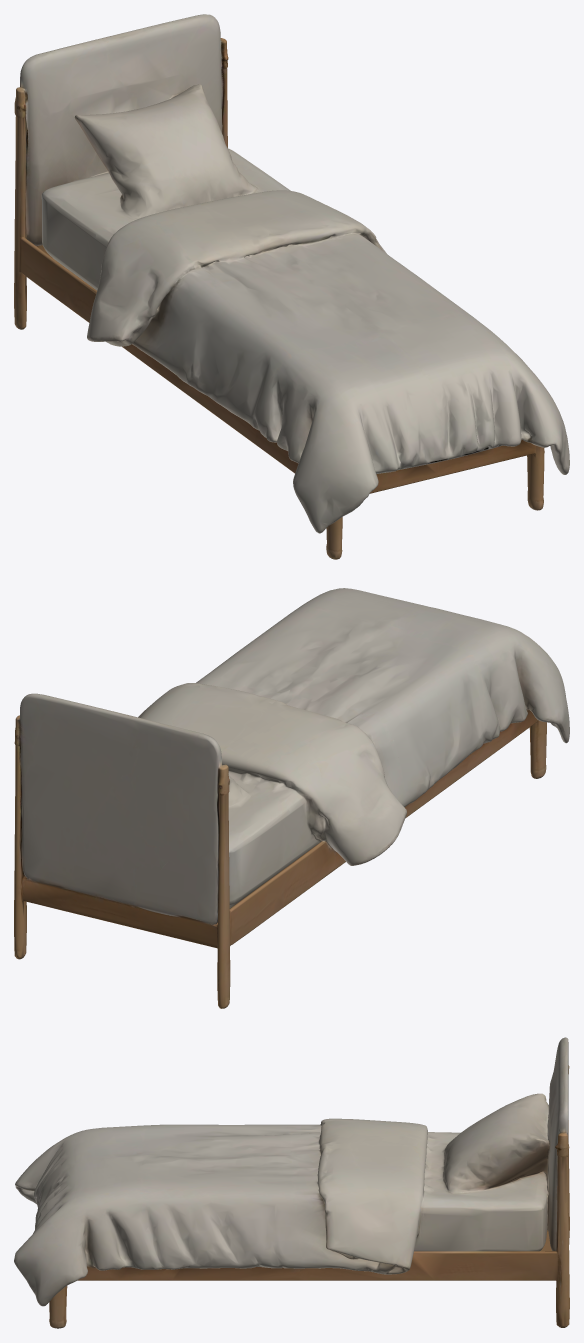
The model's file is bed_single.1d322d97.glb.
3 renders of one model, top to bottom at view 1: azimuth 30°, elevation 25°; view 2: azimuth 150°, elevation 25°; view 3: azimuth 270°, elevation 25°, orthographic. The views are drawn at different scales.
Visible parts, largest first — view 1: tripo_node_f968c241-a949-444b-8654-777a004f1006; view 2: tripo_node_f968c241-a949-444b-8654-777a004f1006; view 3: tripo_node_f968c241-a949-444b-8654-777a004f1006.
Part boxes in pixels (x1,y1,x2,y2): tripo_node_f968c241-a949-444b-8654-777a004f1006: [14, 14, 569, 559]; tripo_node_f968c241-a949-444b-8654-777a004f1006: [14, 588, 569, 1008]; tripo_node_f968c241-a949-444b-8654-777a004f1006: [14, 1037, 569, 1328].
Bounding box in the file's own units: 0.95 × 0.8617 × 2.
1 material, 1 textured.
